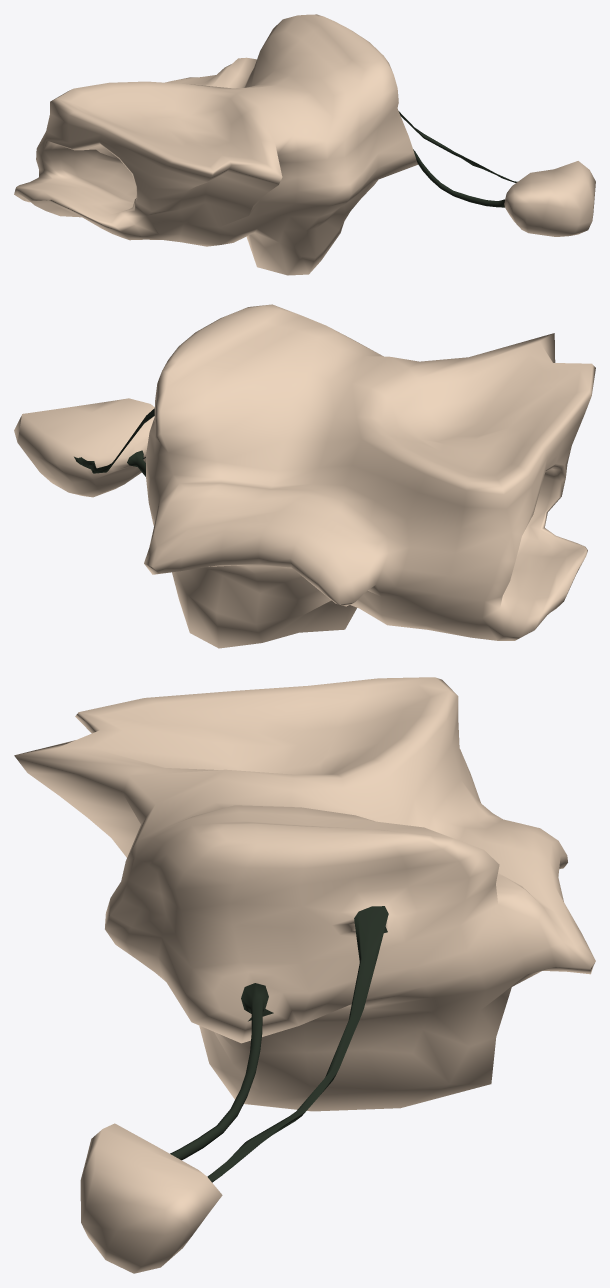
Rendered from Island2-1.fbx.
The picture shows the model from 3 angles, top to bottom: view 1: azimuth 30°, elevation 25°; view 2: azimuth 150°, elevation 25°; view 3: azimuth 270°, elevation 25°; orthographic projection. The views are drawn at different scales.
Parts seen in each view (by area): view 1: pCube1; view 2: pCube1; view 3: pCube1.
Boxes of the visible parts, box(x1,y1,x2,y2) form: pCube1: box(14, 14, 595, 275); pCube1: box(14, 304, 595, 648); pCube1: box(14, 677, 595, 1273).
Bounding box in the file's own units: 65.33 × 26.52 × 42.32.
